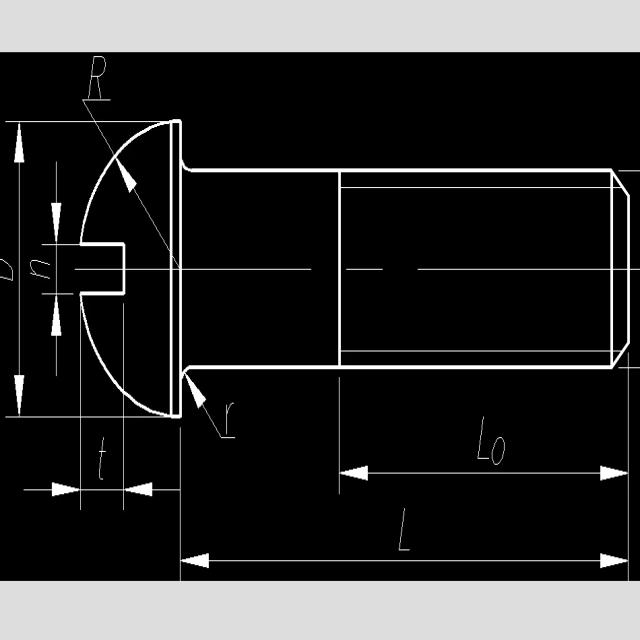marking_line: (0, 417, 633, 584), (175, 420, 631, 580), (337, 375, 636, 496), (6, 119, 80, 422), (4, 412, 101, 513), (75, 420, 180, 513), (41, 163, 79, 379), (115, 158, 167, 243), (186, 373, 239, 442), (42, 161, 78, 248), (40, 292, 74, 380)
